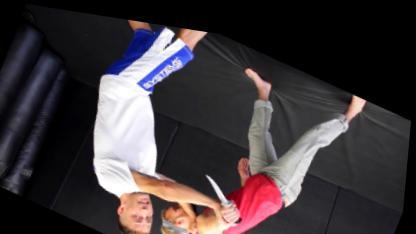knife: (194, 161, 258, 218)
